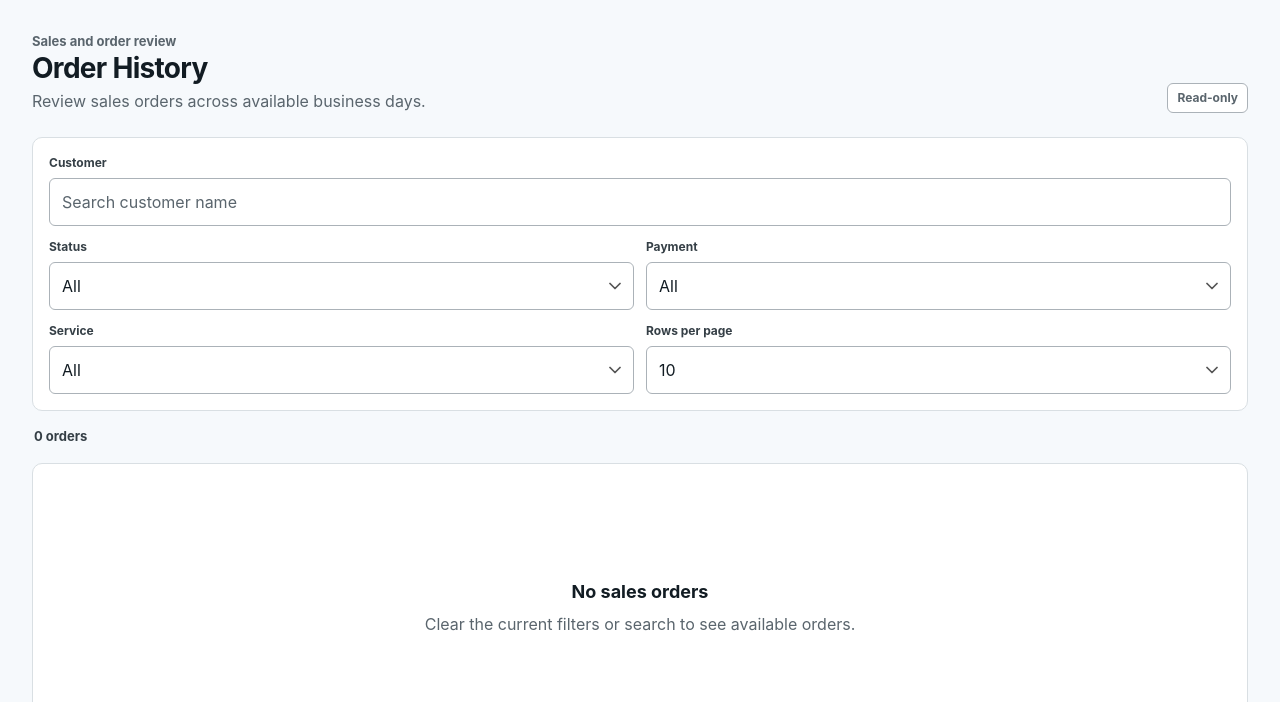
Order History pages › shows the exact empty state and preserves controls after an API error
Check: the heading "No sales orders" is shown, box [572, 581, 708, 602]
Select "Void" in the dropdown labelled "Status" at (342, 286), box [49, 262, 634, 310]
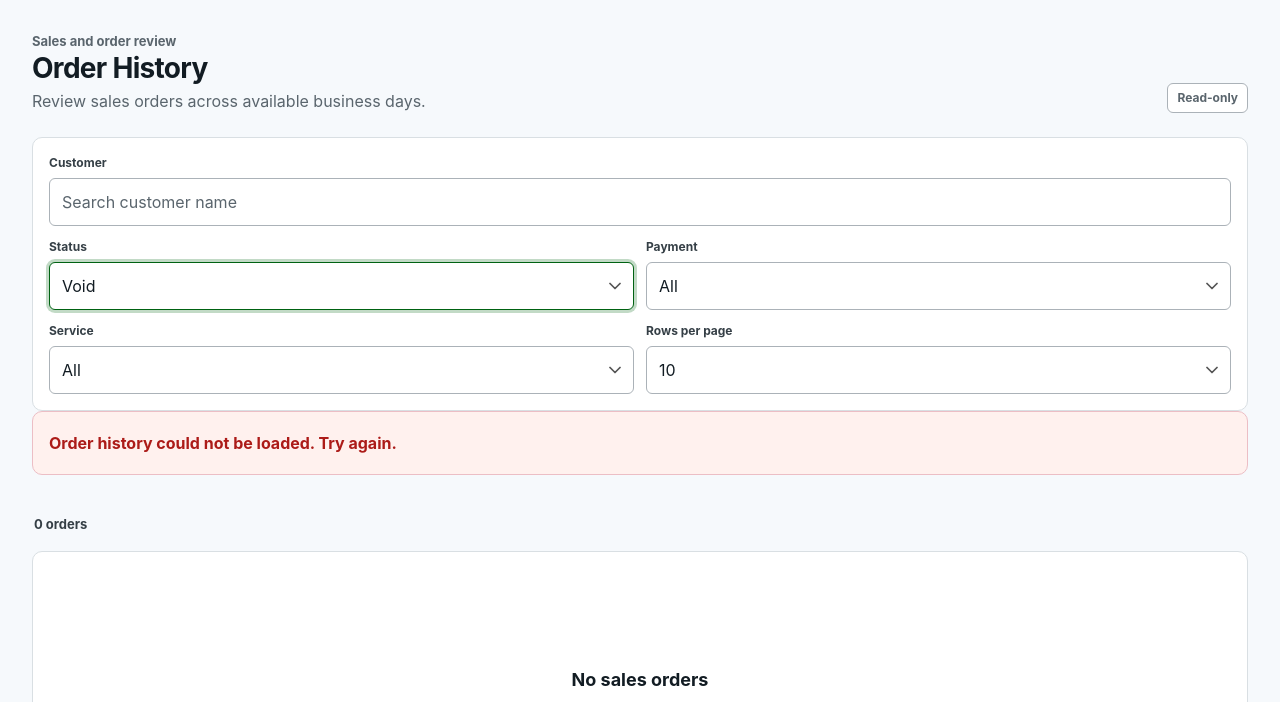
Check: the text "Order history could not be loaded. Try again." is shown, box [49, 431, 397, 455]
